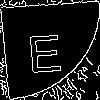E: (25, 25, 64, 74)
